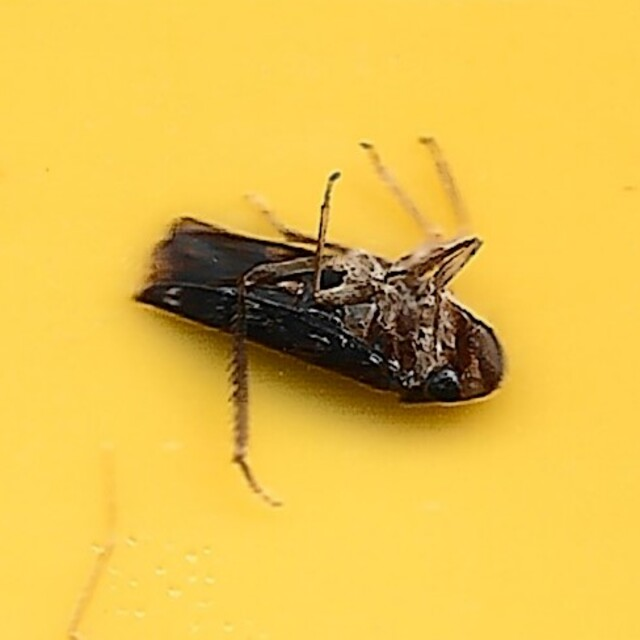Hemiptera: (131, 141, 509, 499)
